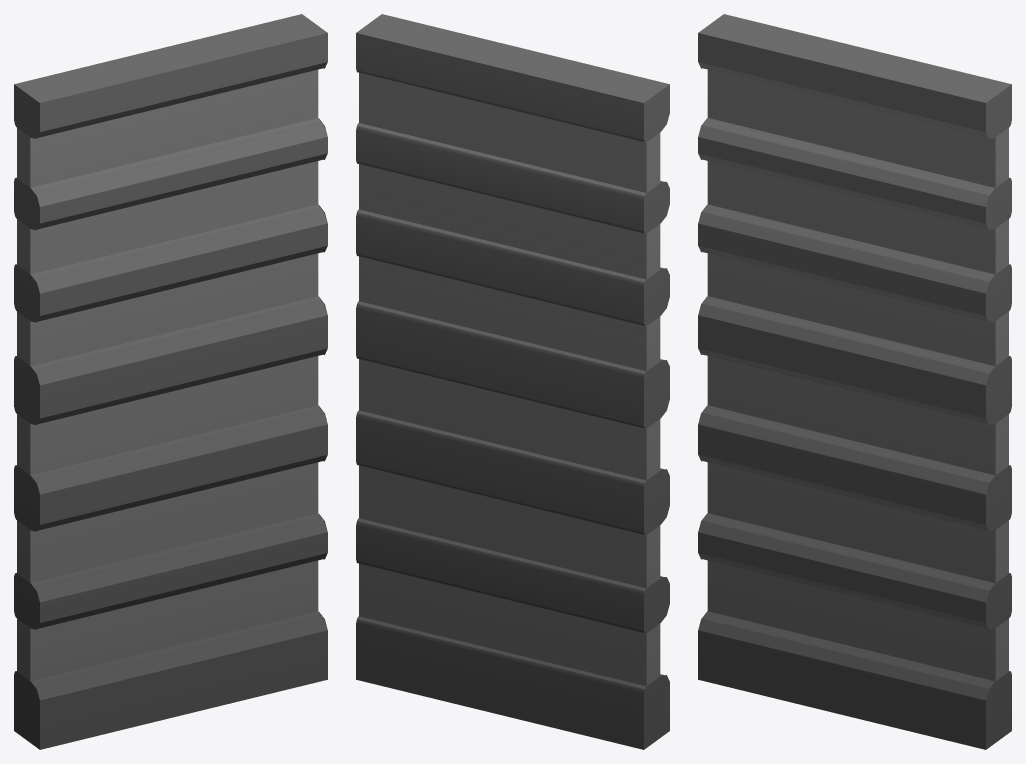
File: geo_rollerDoor.fbx
The picture shows the model from 3 angles, left to right: view 1: azimuth 30°, elevation 25°; view 2: azimuth 150°, elevation 25°; view 3: azimuth 330°, elevation 25°; orthographic projection.
Parts seen in each view (by area): view 1: geo_rollerDoor; view 2: geo_rollerDoor; view 3: geo_rollerDoor.
Boxes of the visible parts, x1=… form: geo_rollerDoor: x1=14, y1=14, x2=327, y2=749; geo_rollerDoor: x1=356, y1=14, x2=669, y2=749; geo_rollerDoor: x1=698, y1=14, x2=1011, y2=749.
Bounding box in the file's own units: 455 × 977 × 70.69.
1 material, 1 textured.
